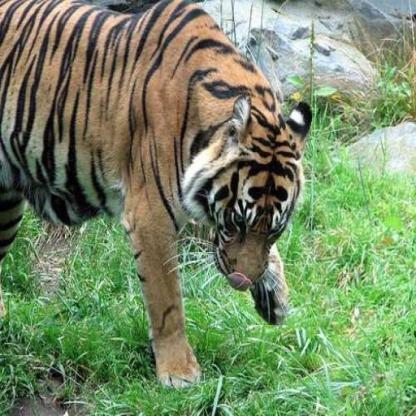Tiger: (0, 0, 315, 394)
